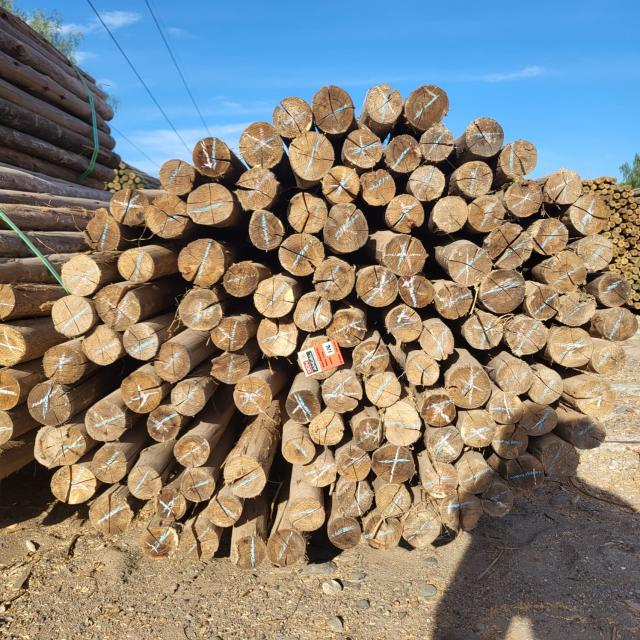package: (35, 78, 638, 566), (582, 180, 640, 258), (609, 245, 639, 316)
